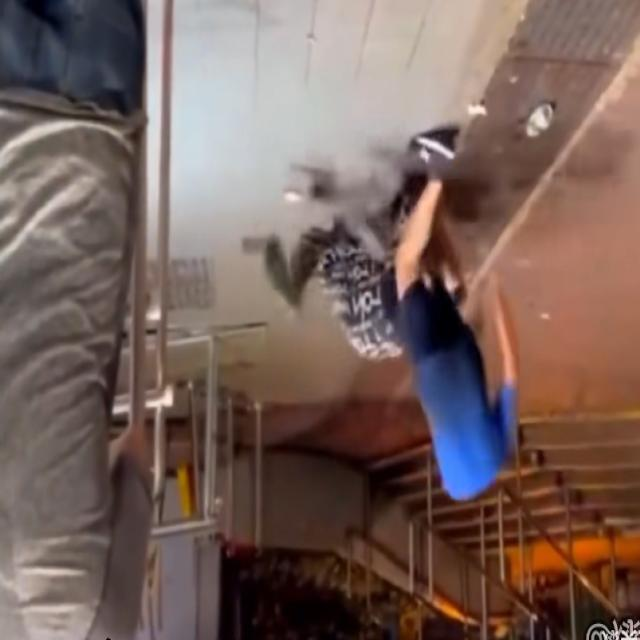fight: (258, 128, 526, 508)
